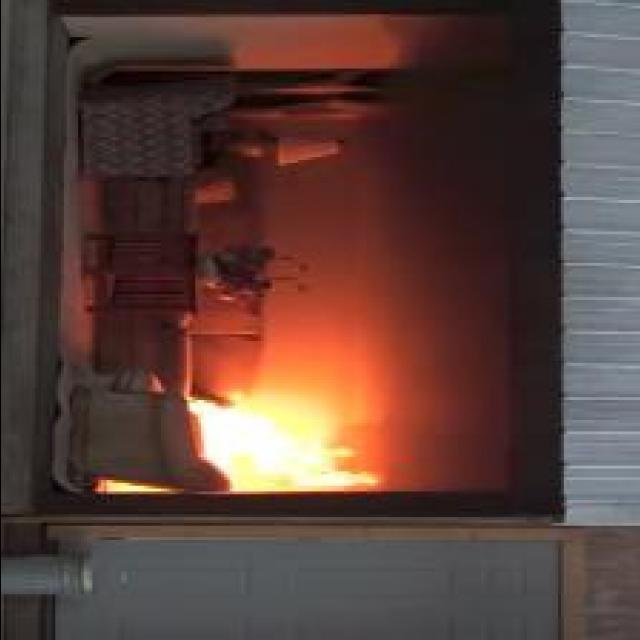Fire: (189, 401, 377, 488)
